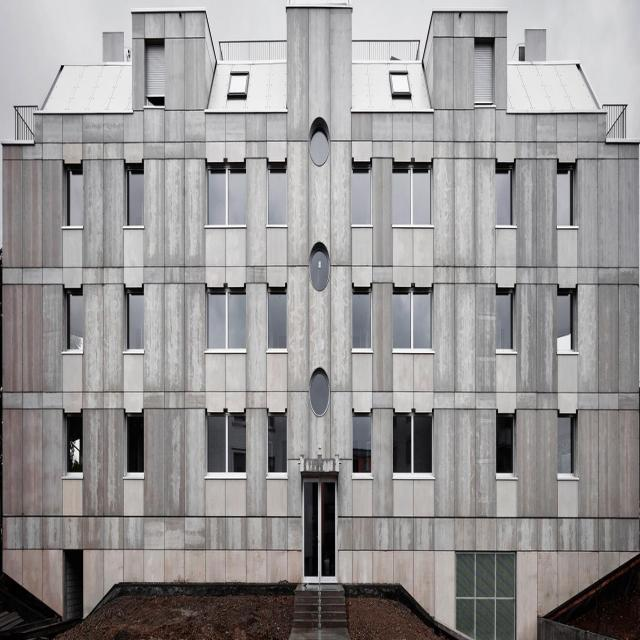Railing: (218, 38, 288, 61), (352, 40, 421, 62), (16, 107, 37, 143), (603, 108, 628, 137)
door: (455, 547, 517, 639), (301, 473, 337, 583)
wall: (0, 0, 640, 639)
windows: (207, 286, 247, 355), (391, 163, 433, 228), (208, 412, 248, 480), (208, 163, 247, 232), (391, 286, 432, 351), (392, 412, 433, 477), (266, 164, 288, 227), (266, 287, 288, 350), (268, 413, 290, 476), (66, 162, 85, 233), (66, 281, 84, 352), (67, 407, 85, 478), (126, 167, 146, 229), (126, 290, 146, 352), (476, 43, 496, 105), (354, 165, 374, 226), (353, 288, 373, 349), (354, 414, 374, 475), (494, 290, 514, 350), (495, 167, 514, 227), (496, 416, 515, 476), (128, 416, 146, 478), (557, 168, 572, 222), (557, 291, 572, 345), (558, 417, 573, 471), (310, 374, 330, 414), (310, 248, 328, 288), (310, 126, 328, 165)
